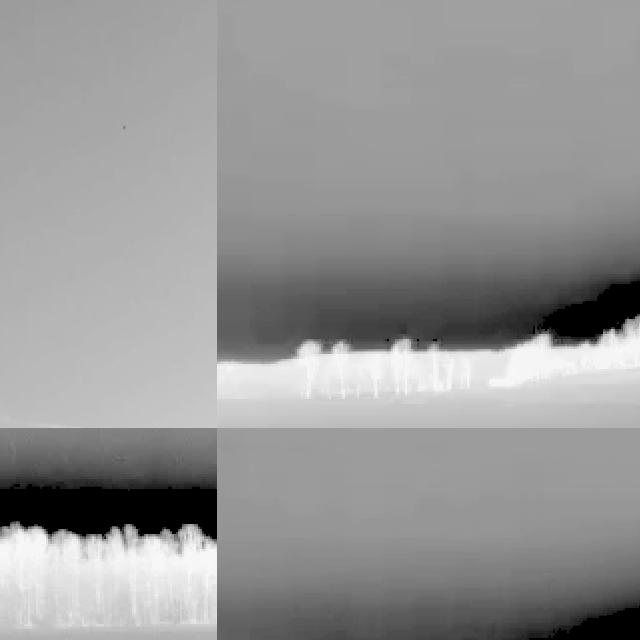drone: (118, 119, 127, 138)
